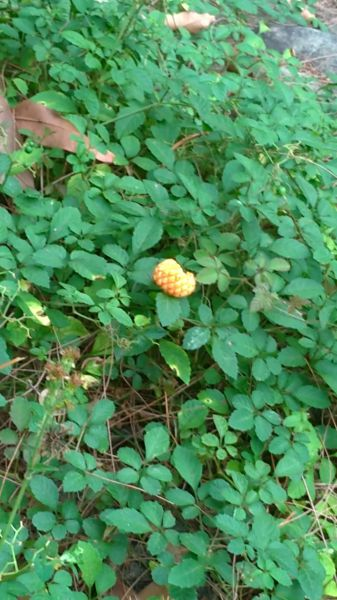eggs: (148, 253, 200, 302)
